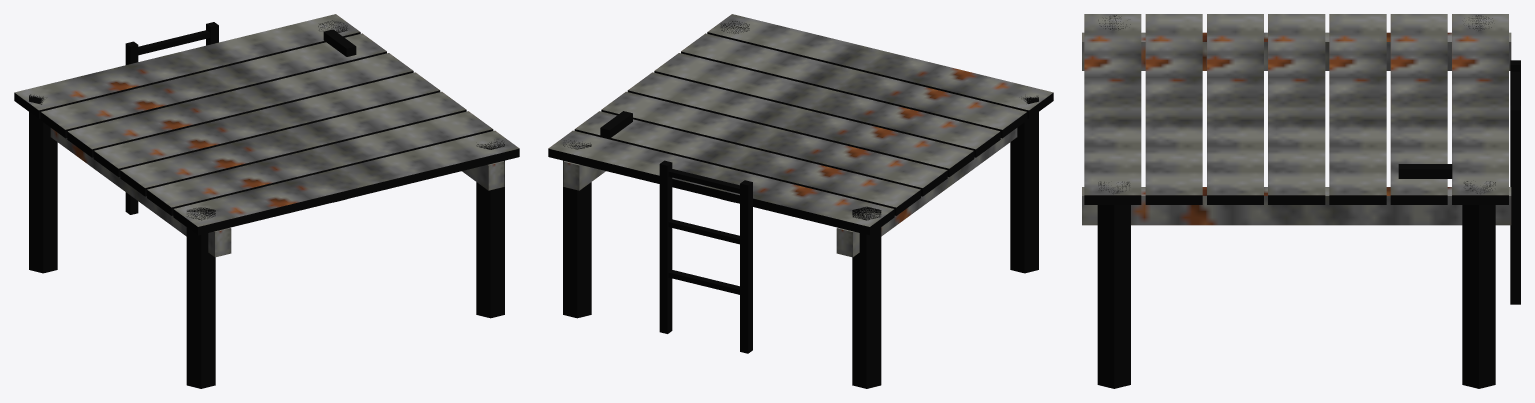
The model's file is SM_dock_end.fbx.
The picture shows the model from 3 angles, left to right: view 1: azimuth 30°, elevation 25°; view 2: azimuth 150°, elevation 25°; view 3: azimuth 270°, elevation 25°; orthographic projection. The views are drawn at different scales.
Parts seen in each view (by area): view 1: dock_end; view 2: dock_end; view 3: dock_end.
Boxes of the visible parts, left/top/right/bottom form: dock_end: left=14, top=14, right=519, bottom=388; dock_end: left=548, top=14, right=1053, bottom=388; dock_end: left=1082, top=14, right=1520, bottom=388.
Size of the model in its own units: 2 by 1.1 by 2.04.
